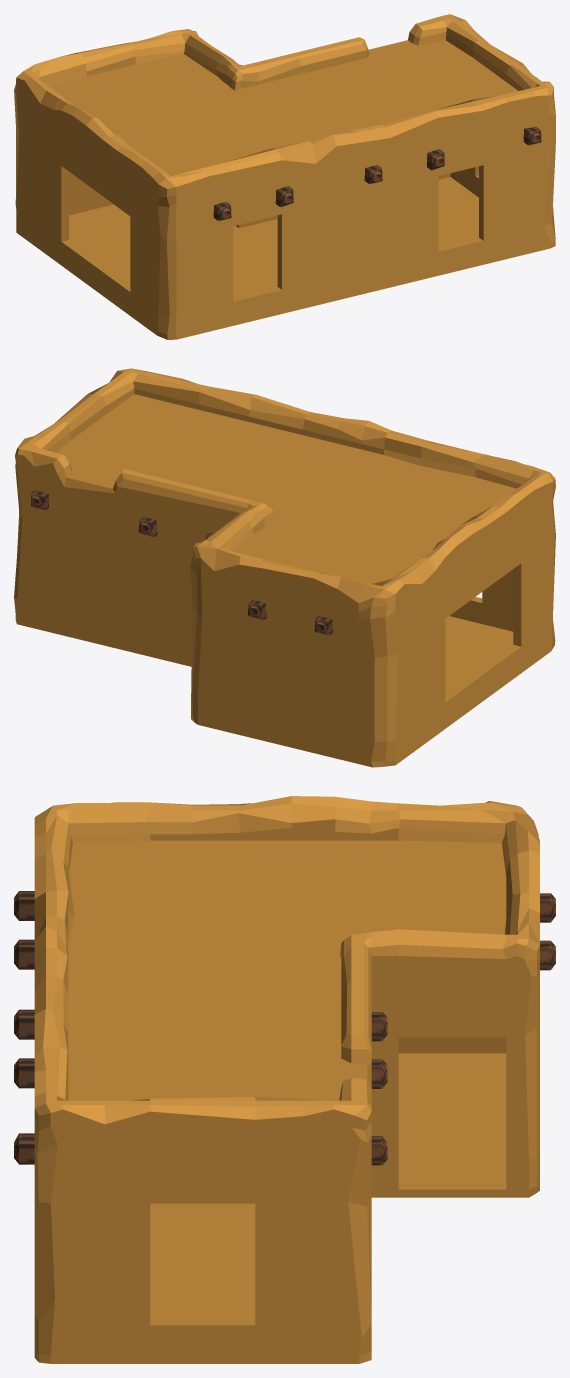
The model's file is Building_L4.fbx.
3 renders of one model, top to bottom at view 1: azimuth 30°, elevation 25°; view 2: azimuth 150°, elevation 25°; view 3: azimuth 270°, elevation 25°, orthographic. The views are drawn at different scales.
Parts seen in each view (by area): view 1: Plane.001; view 2: Plane.001; view 3: Plane.001.
Part boxes in pixels (bbox=[...]): Plane.001: bbox=[14, 14, 555, 339]; Plane.001: bbox=[14, 368, 555, 767]; Plane.001: bbox=[14, 796, 555, 1363].
Size of the model in its own units: 260 by 104 by 193.
